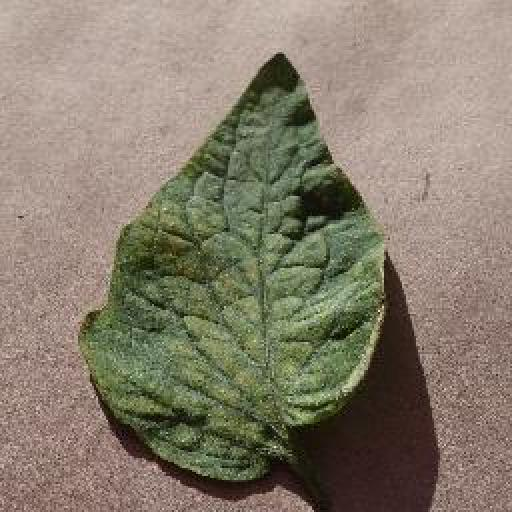Spider Mites: (79, 50, 387, 482)
